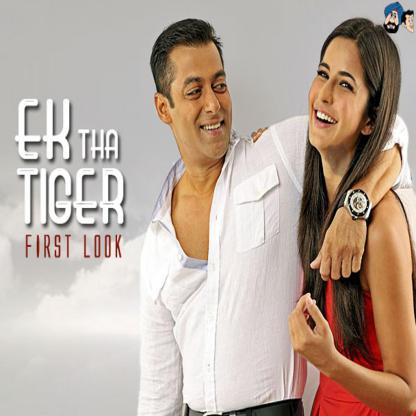face: (172, 46, 234, 165), (310, 38, 370, 149)
